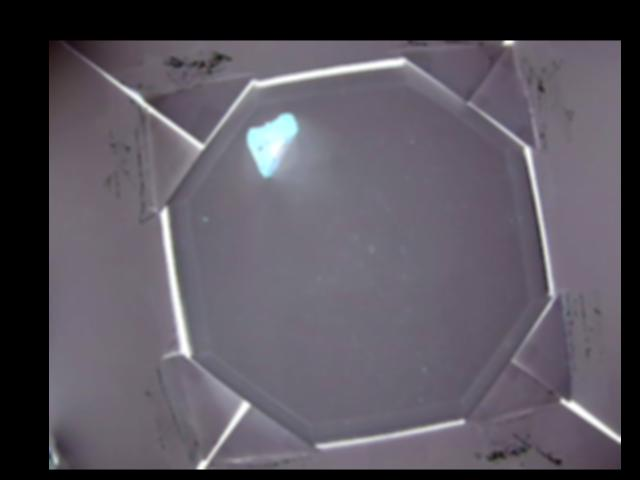Brisk: (245, 113, 298, 175)
